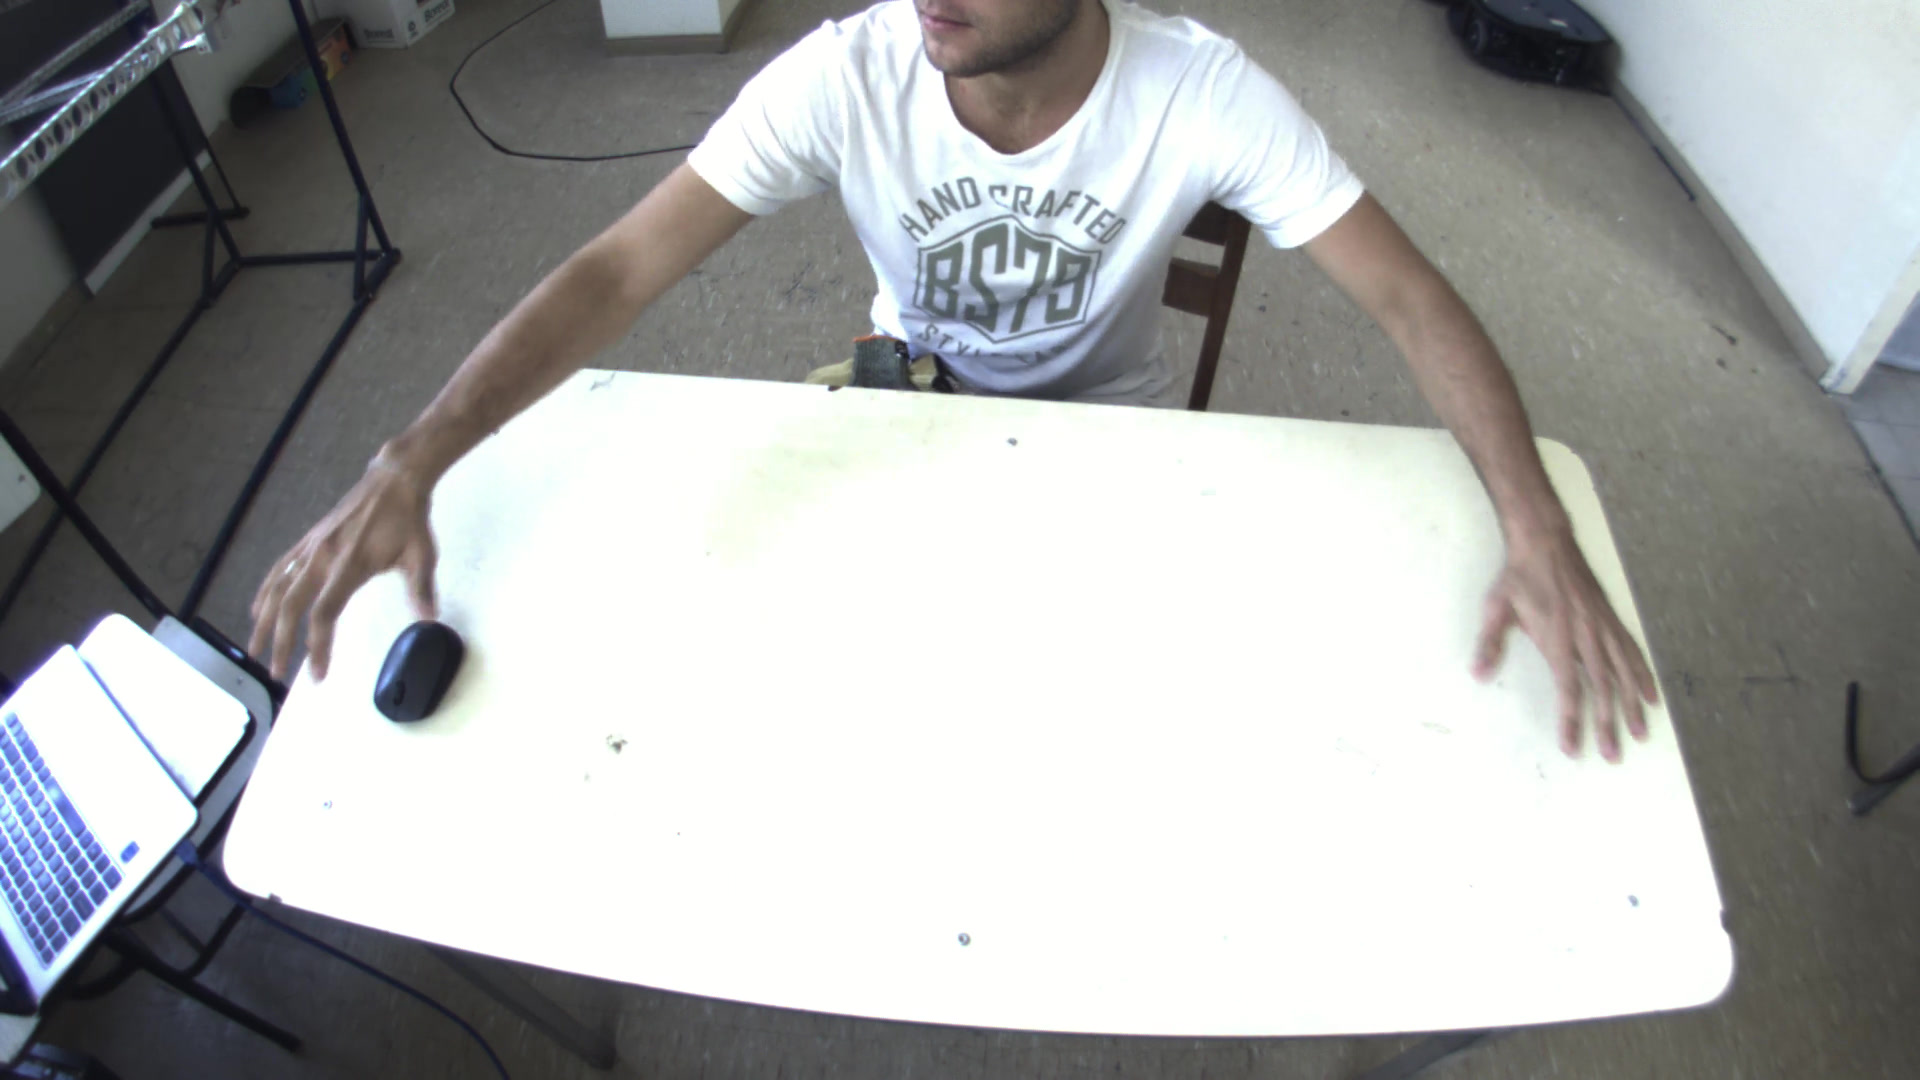hand: (225, 462, 442, 692), (1476, 524, 1672, 774)
